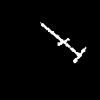double_crochet: (41, 23, 85, 62)
